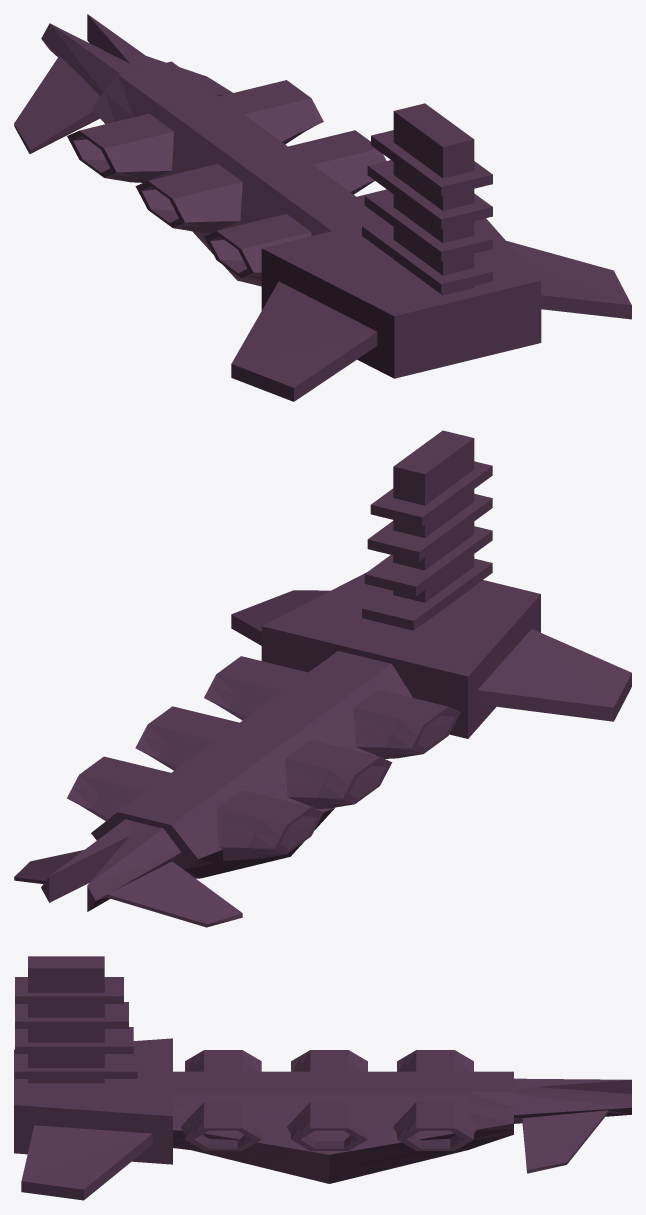
Rendered from Alien_moederbord_2.fbx.
3 renders of one model, top to bottom at view 1: azimuth 30°, elevation 25°; view 2: azimuth 150°, elevation 25°; view 3: azimuth 270°, elevation 25°, orthographic. The views are drawn at different scales.
Parts seen in each view (by area): view 1: Cylinder_1; view 2: Cylinder_1; view 3: Cylinder_1.
Part boxes in pixels (x1,y1,x2,y2): Cylinder_1: [14, 14, 631, 401]; Cylinder_1: [14, 430, 631, 927]; Cylinder_1: [14, 956, 631, 1200].
Size of the model in its own units: 3705 by 2529 by 6698.
